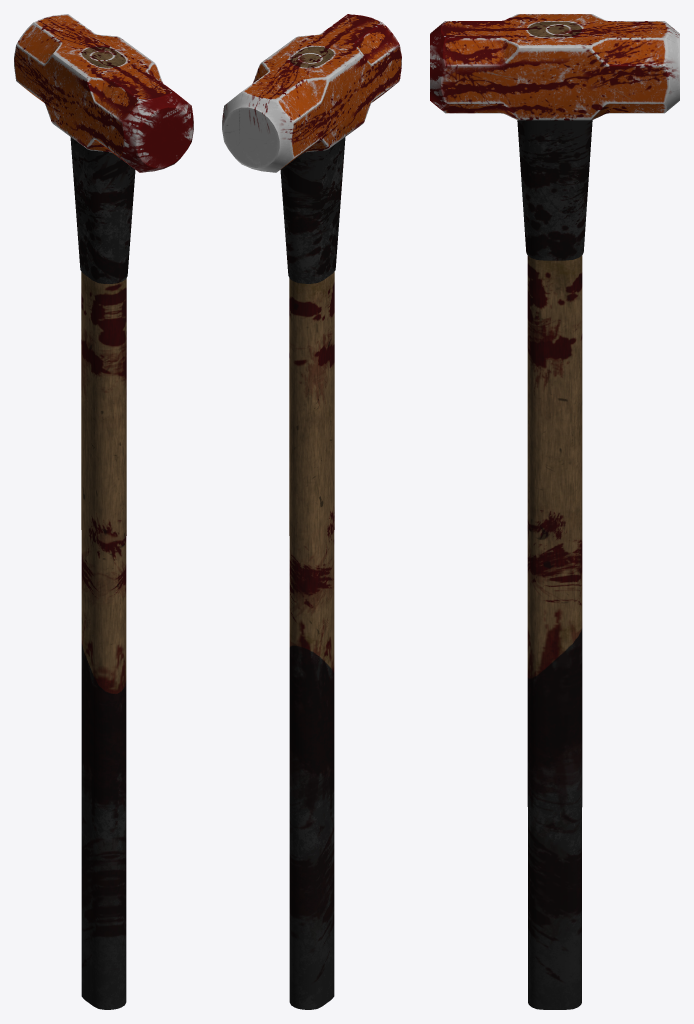
3 views of the same model, side by side, from view 1: azimuth 30°, elevation 25°; view 2: azimuth 150°, elevation 25°; view 3: azimuth 270°, elevation 25° (orthographic). The views are drawn at different scales.
Parts seen in each view (by area): view 1: Hummer1, hummerLP; view 2: Hummer1, hummerLP; view 3: Hummer1, hummerLP.
Boxes of the visible parts, box(x1,y1,x2,y2) form: Hummer1: box(70, 137, 135, 1009); hummerLP: box(14, 14, 193, 172); Hummer1: box(280, 137, 345, 1009); hummerLP: box(222, 14, 401, 172); Hummer1: box(517, 120, 592, 1009); hummerLP: box(430, 14, 679, 120).
Size of the model in its own units: 10.31 by 134 by 31.13.
Materials: 1 (1 with a texture image).
